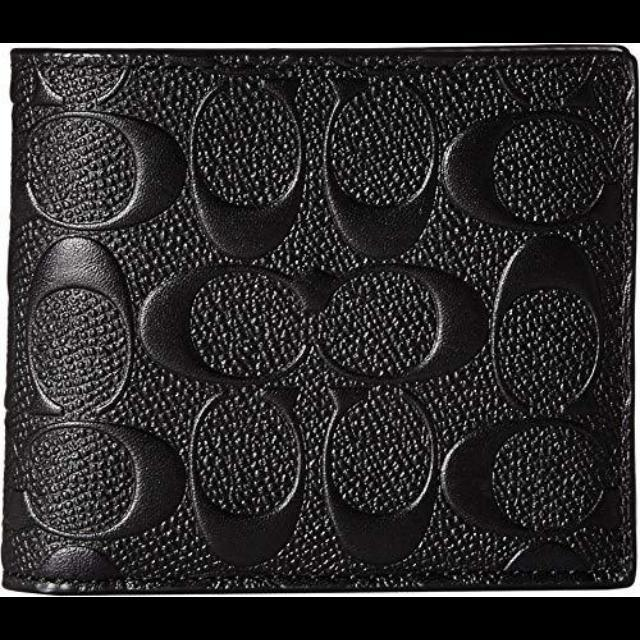wallet: (3, 42, 639, 596)
